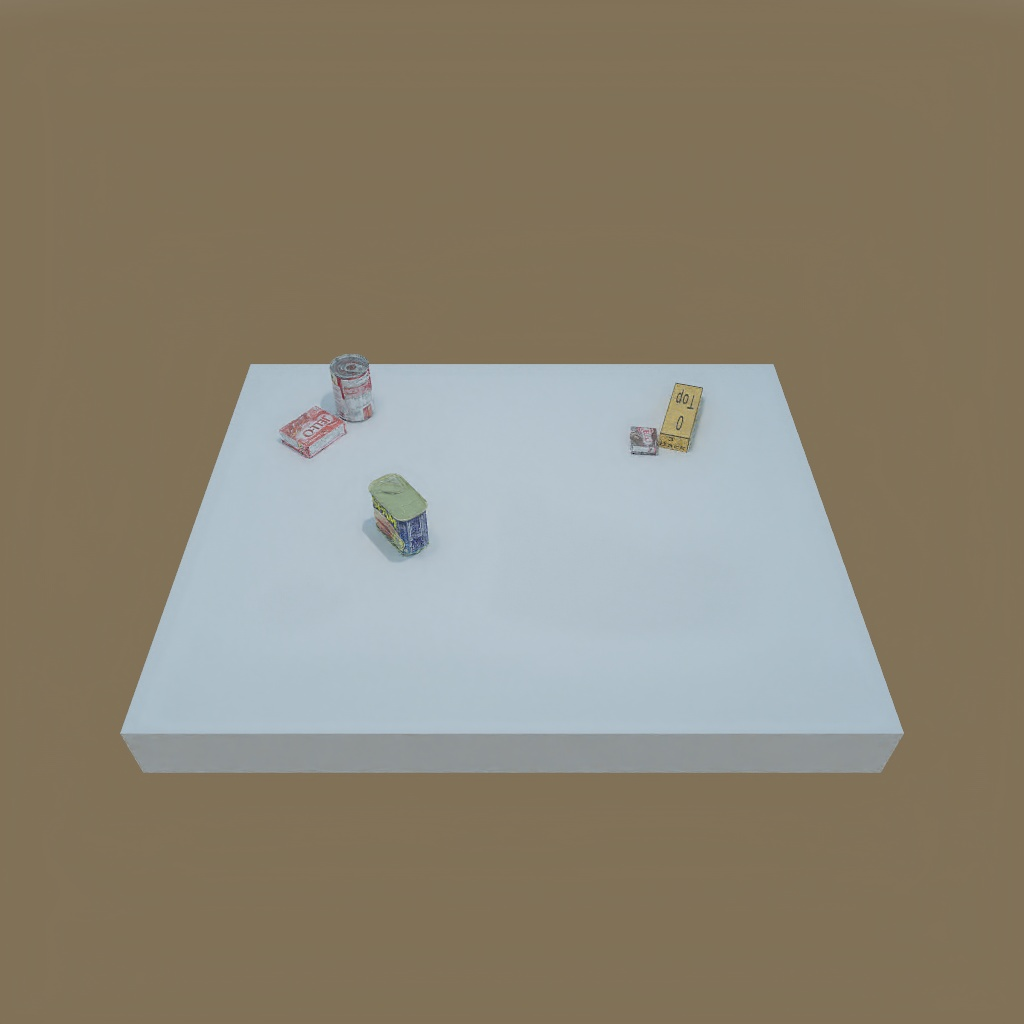gelatin_box: (276, 406, 349, 458)
jenga: (656, 381, 703, 453)
potted_meat_can: (368, 473, 430, 554)
pudding_box: (629, 424, 661, 459)
tomato_soup_can: (322, 356, 378, 426)
